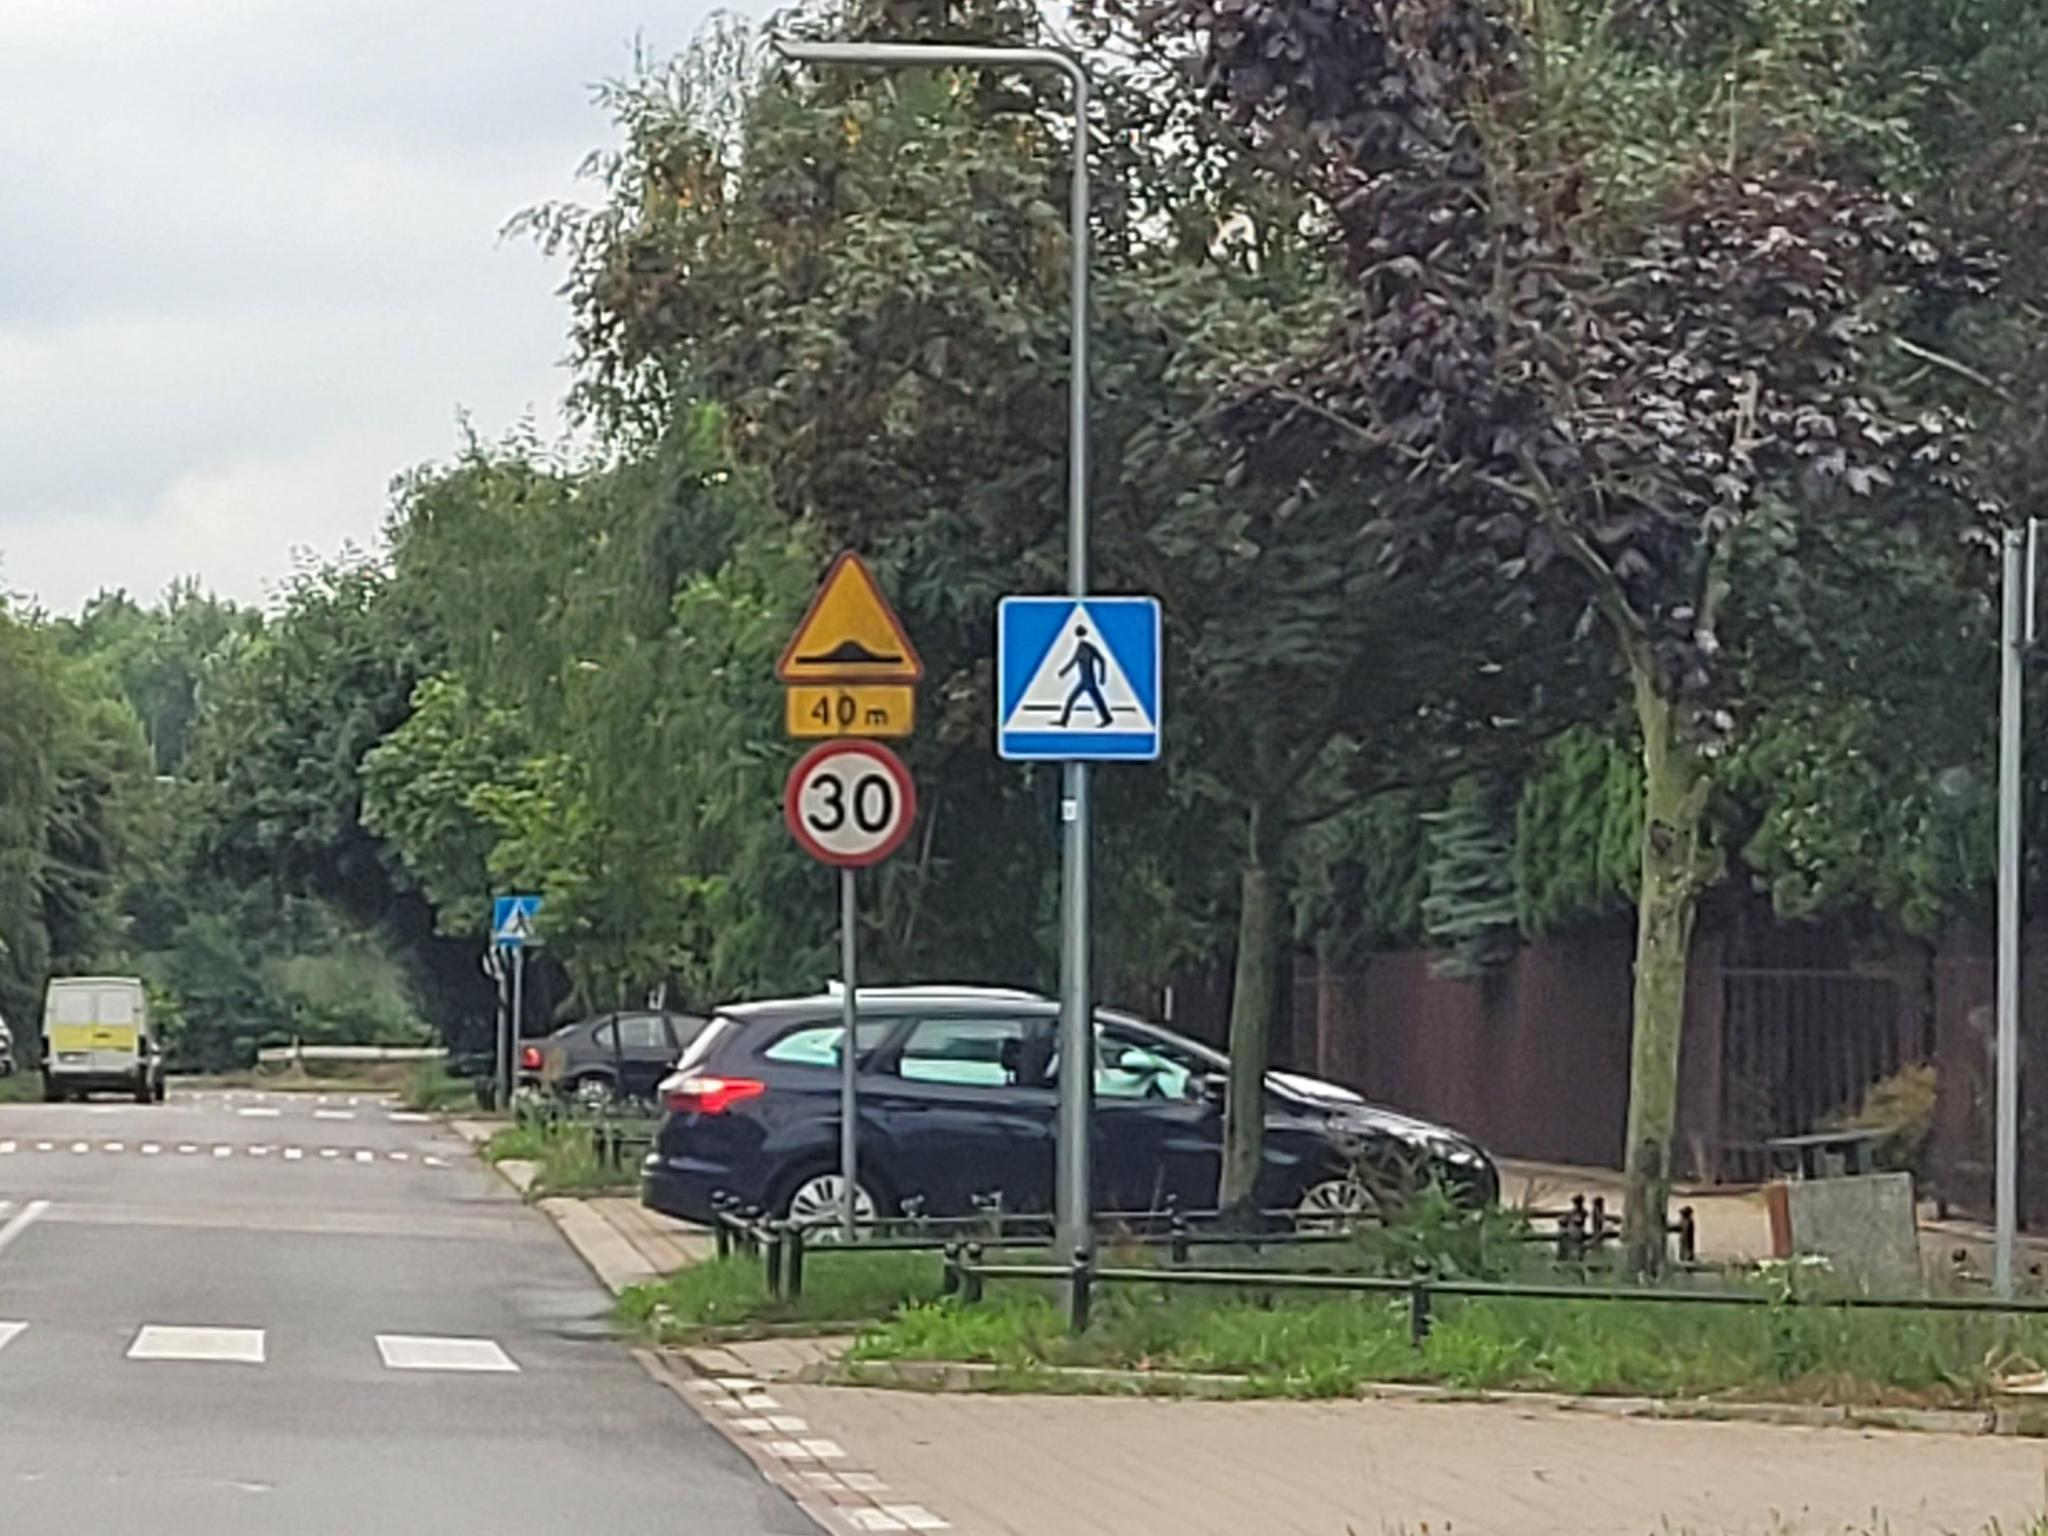information: (997, 594, 1163, 763), (495, 895, 545, 947)
other: (784, 686, 916, 737)
prohibitory: (782, 741, 919, 870)
warning: (776, 550, 926, 686)
